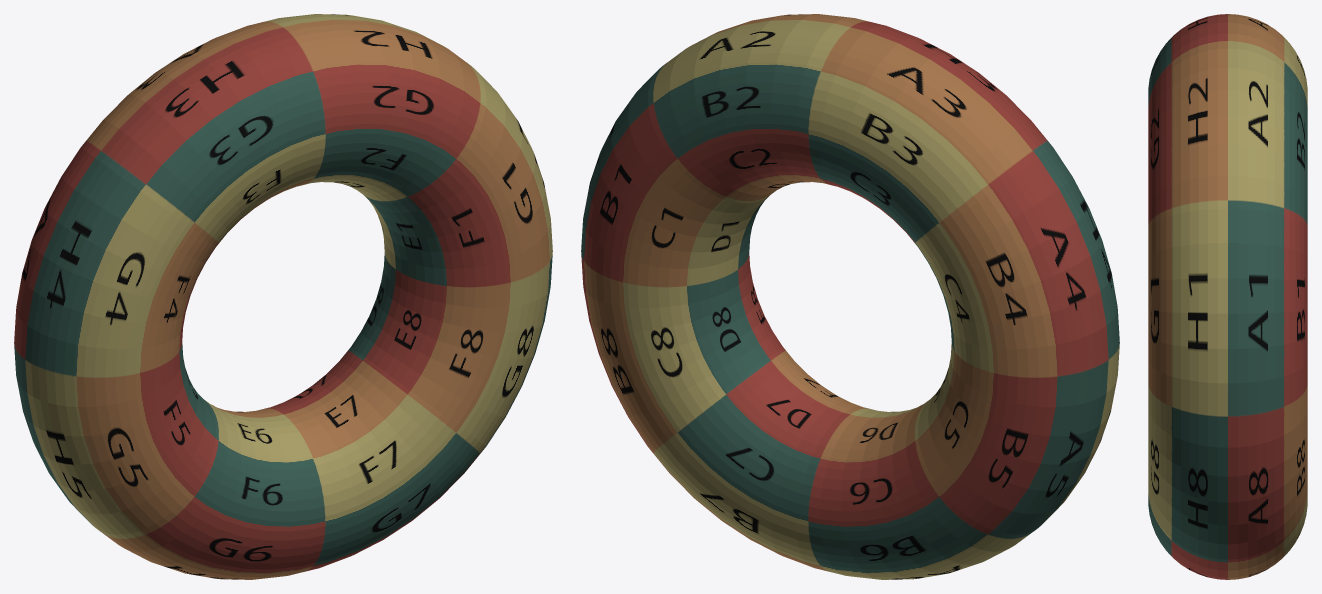
The model's file is texture_torus_R14_r21.glb.
3 renders of one model, left to right at view 1: azimuth 30°, elevation 25°; view 2: azimuth 150°, elevation 25°; view 3: azimuth 270°, elevation 25°, orthographic. The views are drawn at different scales.
Visible parts, largest first — view 1: world; view 2: world; view 3: world.
Boxes of the visible parts, x1,y1,x2,y2 form: world: (14, 14, 552, 579); world: (581, 14, 1119, 579); world: (1148, 14, 1307, 579).
Size of the model in its own units: 26.93 by 26.88 by 7.59.
1 material, 1 textured.
